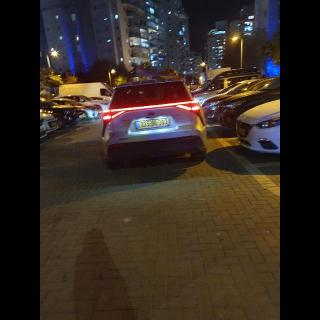LicensePlate: (139, 118, 169, 128)
